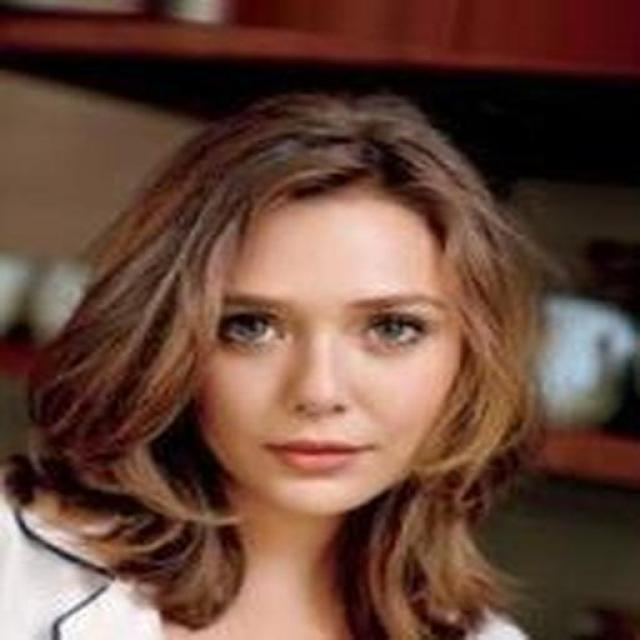bareface: (167, 95, 516, 520)
